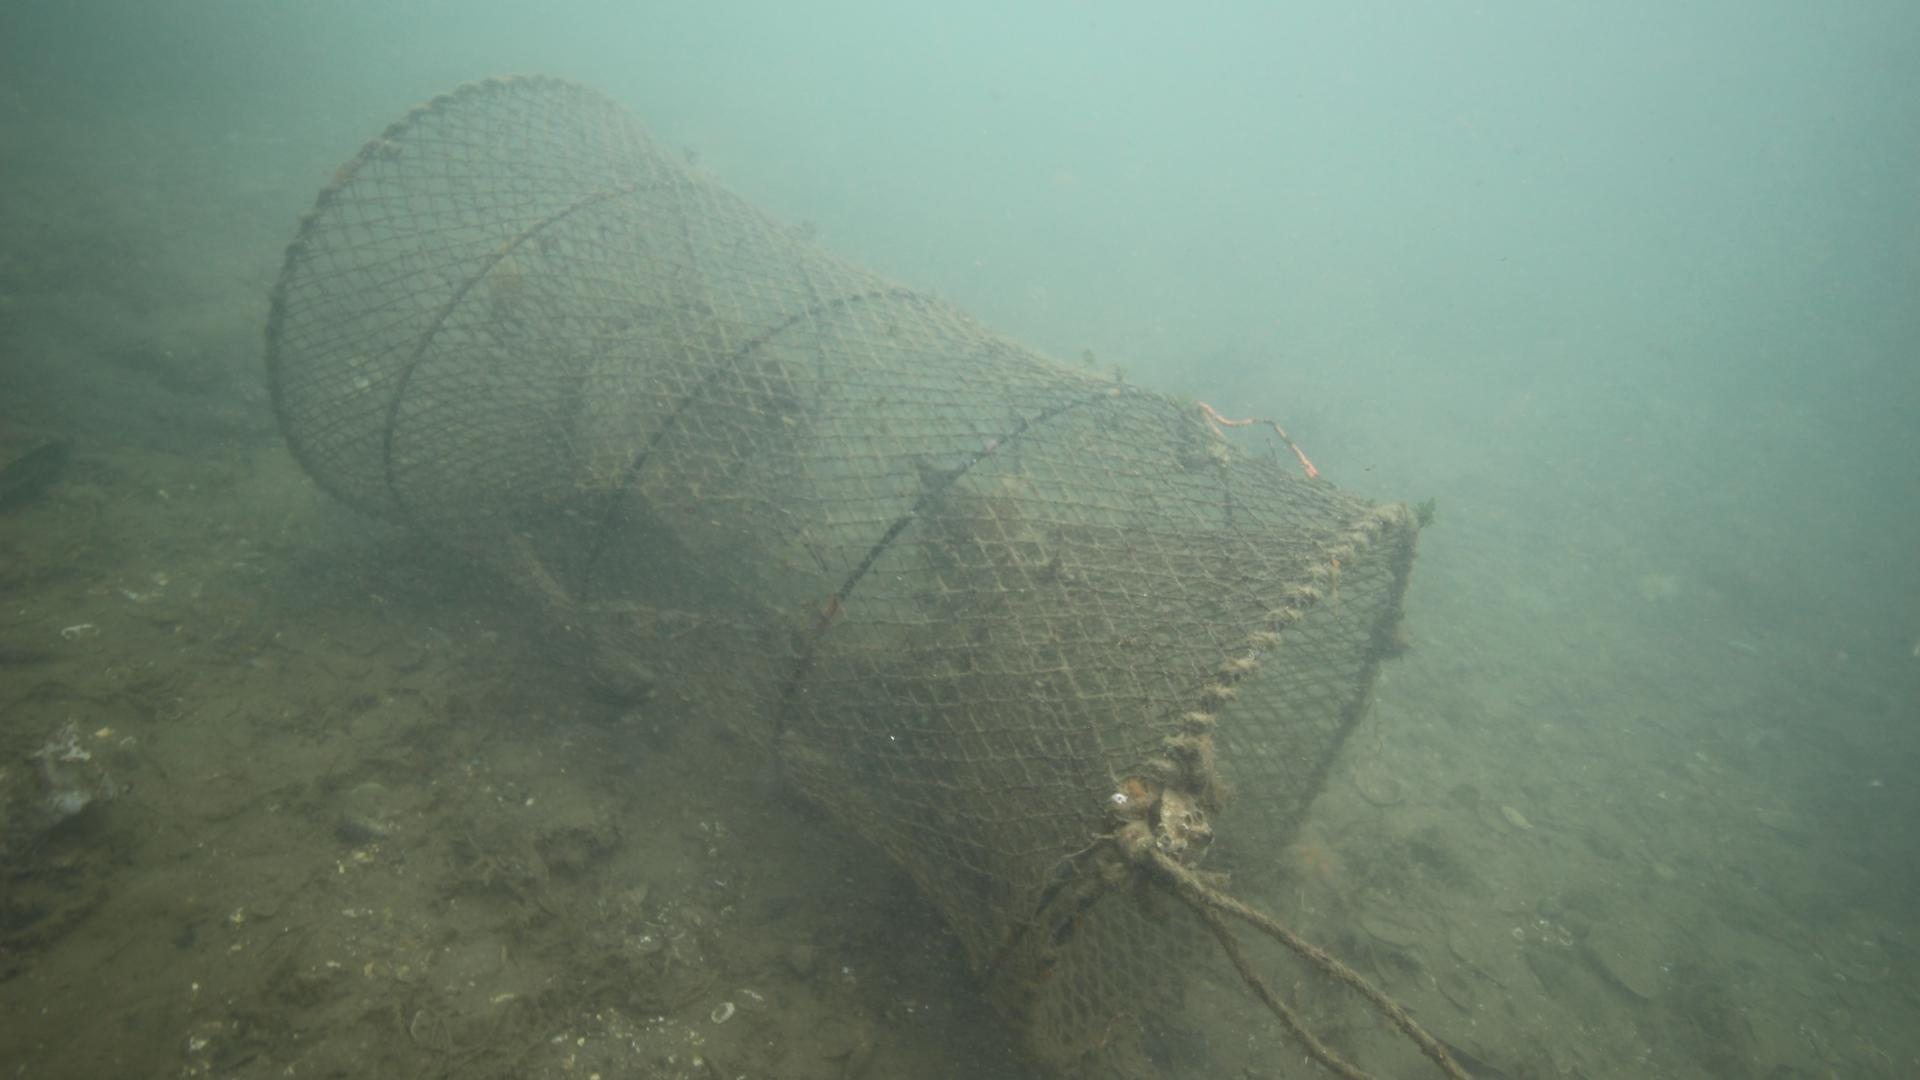bundle of ropes: (1133, 837, 1462, 1080)
spring fish trap: (266, 74, 1427, 1080)
